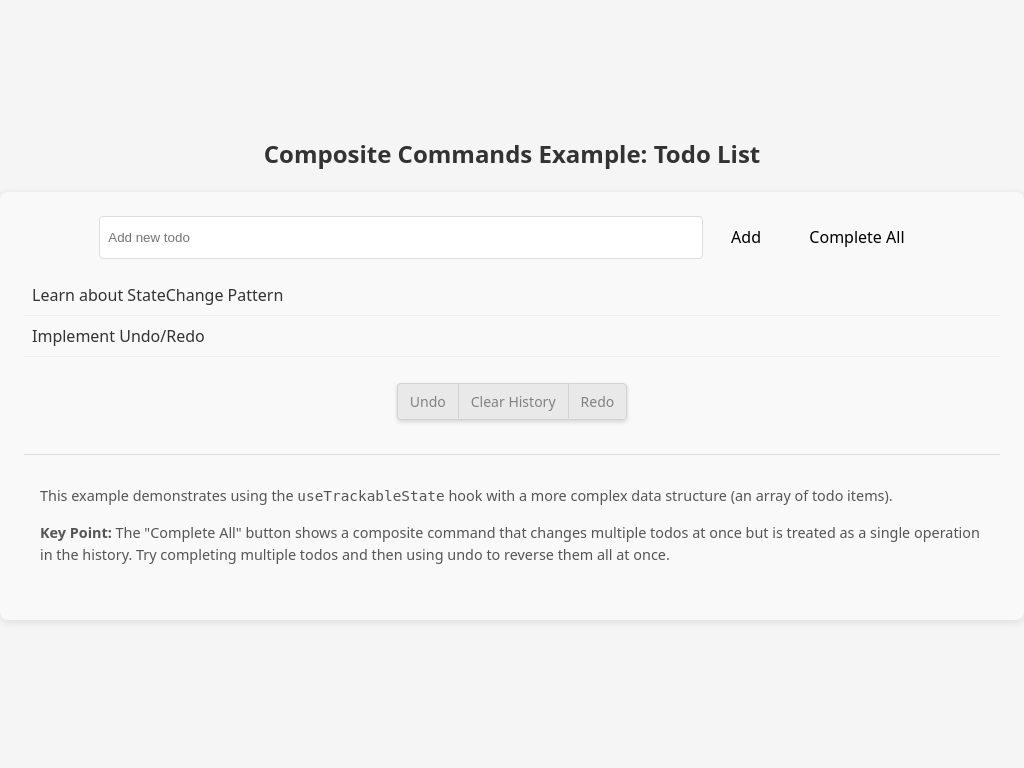
Test case: TodoList component › undoes and redoes actions using the controls
In the field with placeholder "Add new todo": x=401, y=237 [99,216,703,259], type "New test todo"
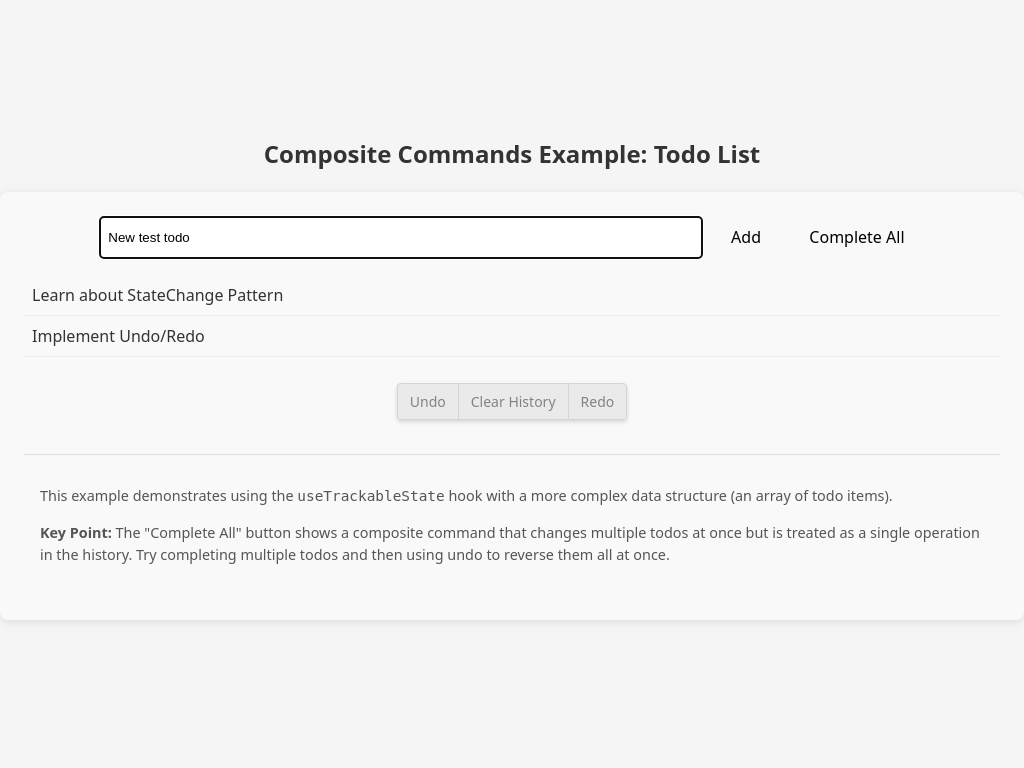
Click the button "Add": x=746, y=237 [711,216,781,259]
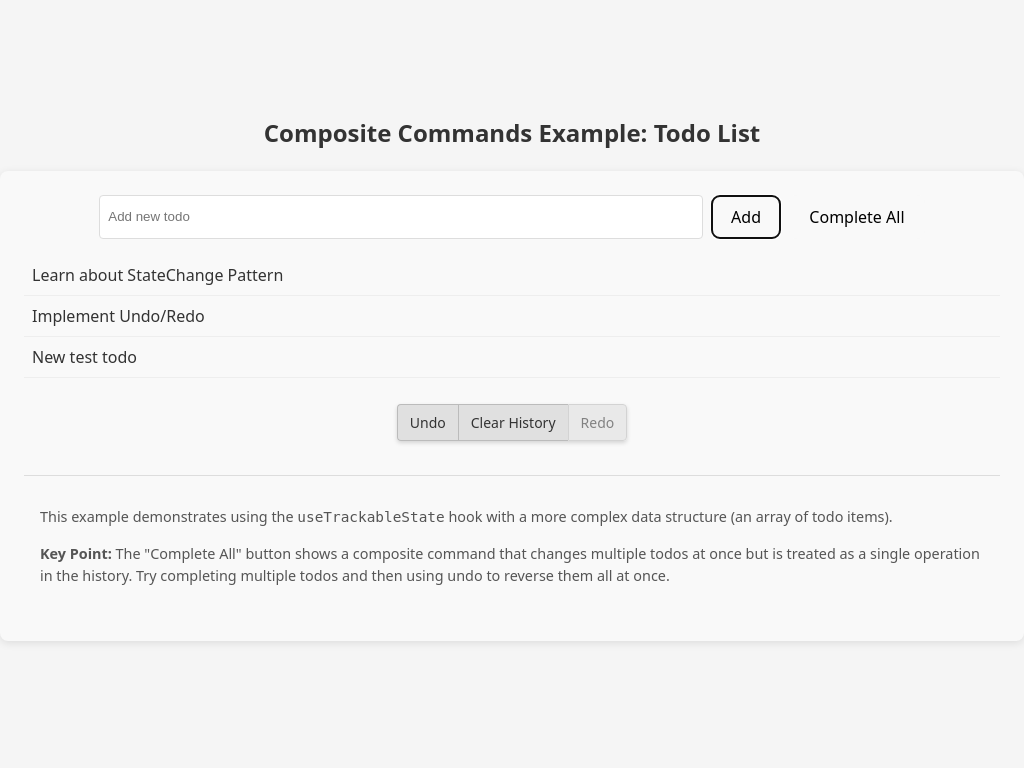
Expected: the number of list items is 3
Click the list item "Learn about StateChange Pattern": x=512, y=275 [24,254,1000,296]
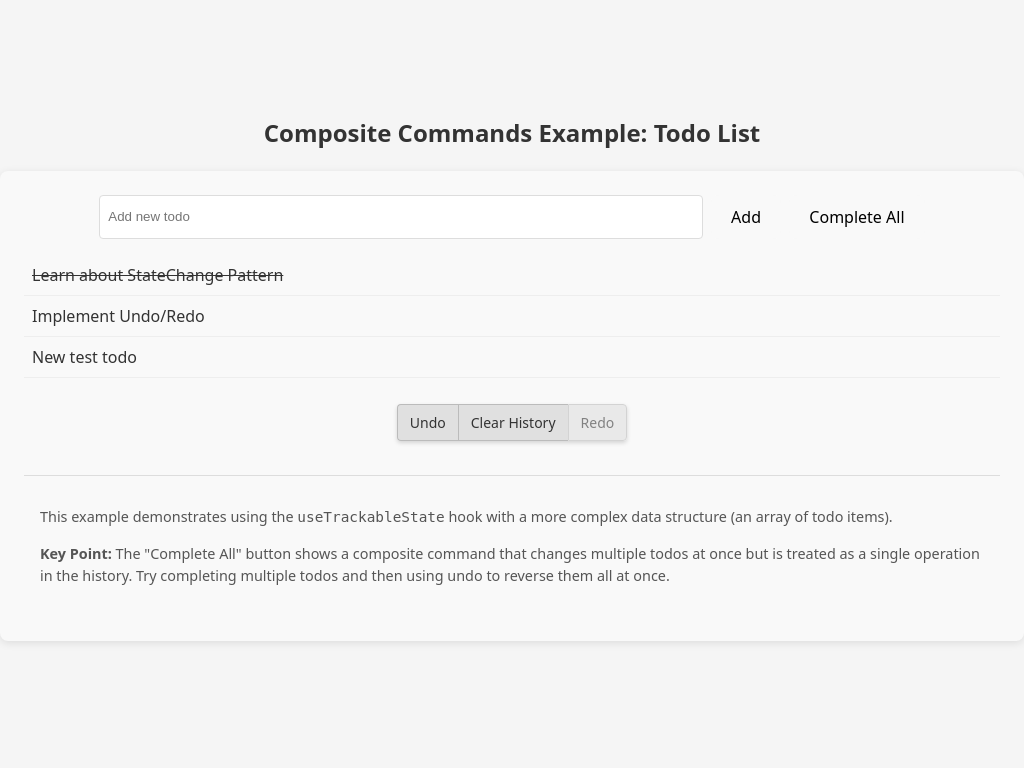
Now undo the completion
Click the button "Undo": x=427, y=422 [397,404,458,440]
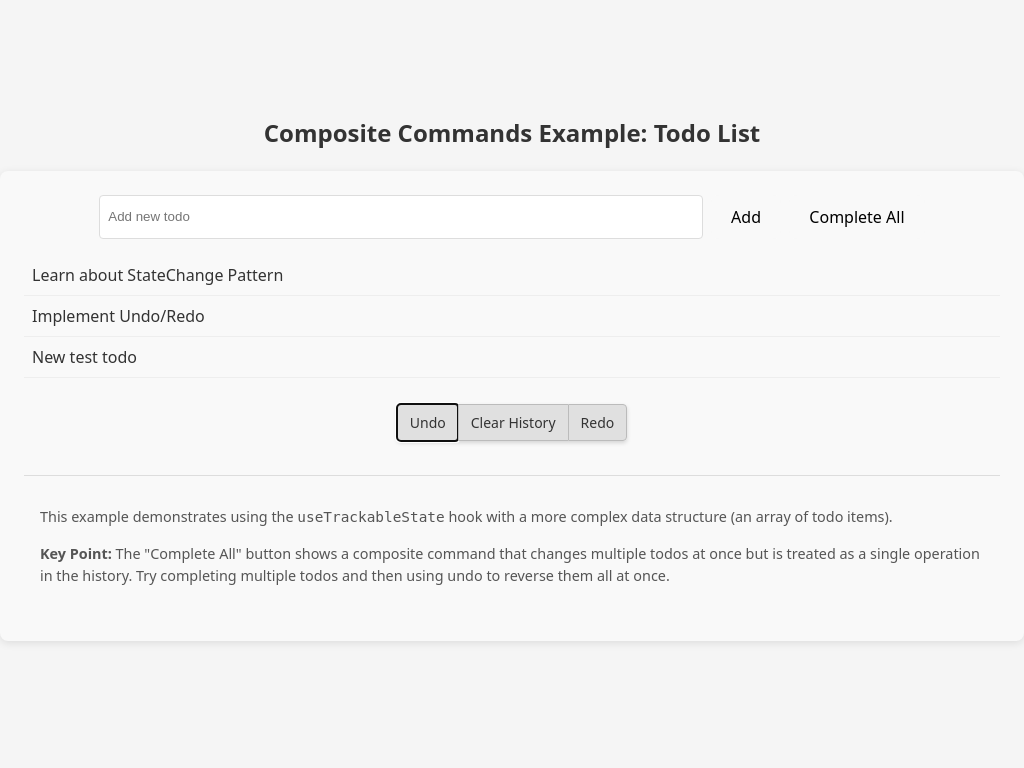
Expected: the list item "Learn about StateChange Pattern" does not have style "text-decoration: line-through", [24,254,1000,296]
Click the button "Undo": x=427, y=422 [397,404,458,440]
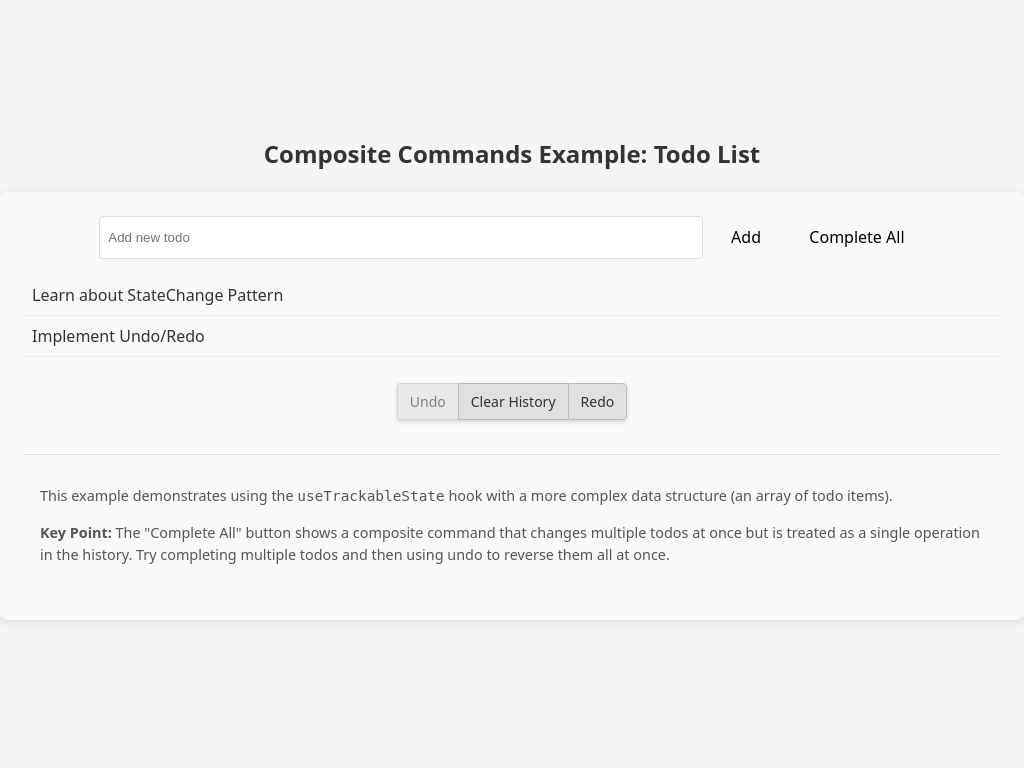
Expected: the number of list items is 2, [24,275,1000,316]; [24,316,1000,357]
Click the button "Redo": x=597, y=402 [568,383,627,420]
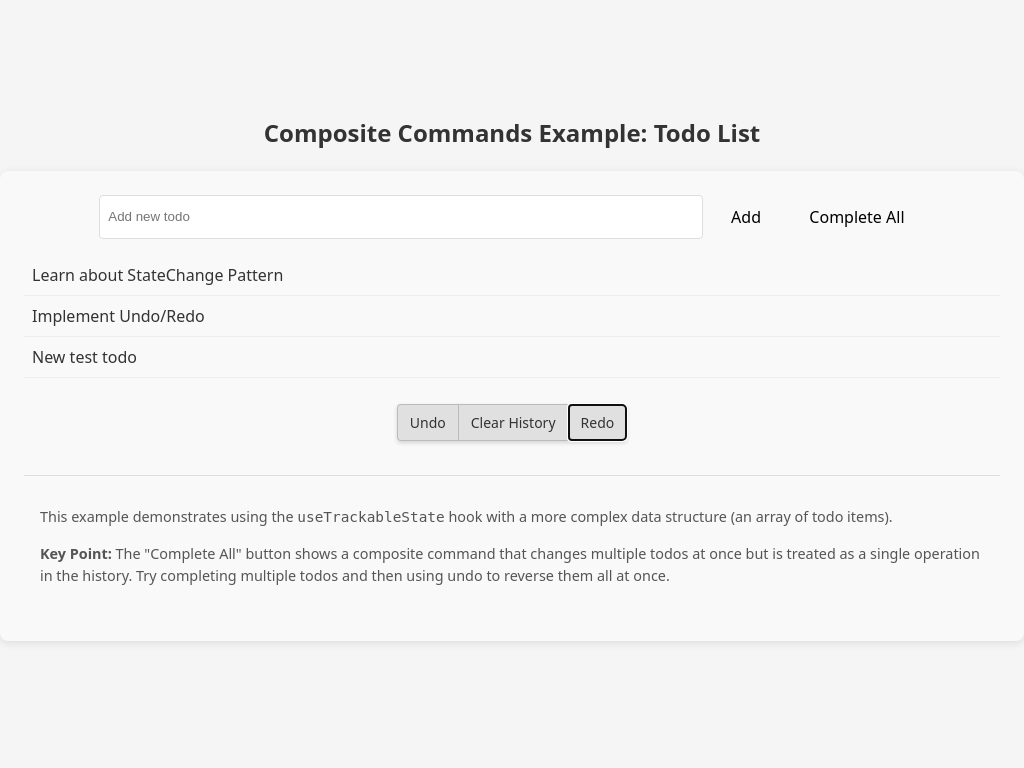
Expected: the number of list items is 3, [24,254,1000,296]; [24,296,1000,336]; [24,336,1000,378]
